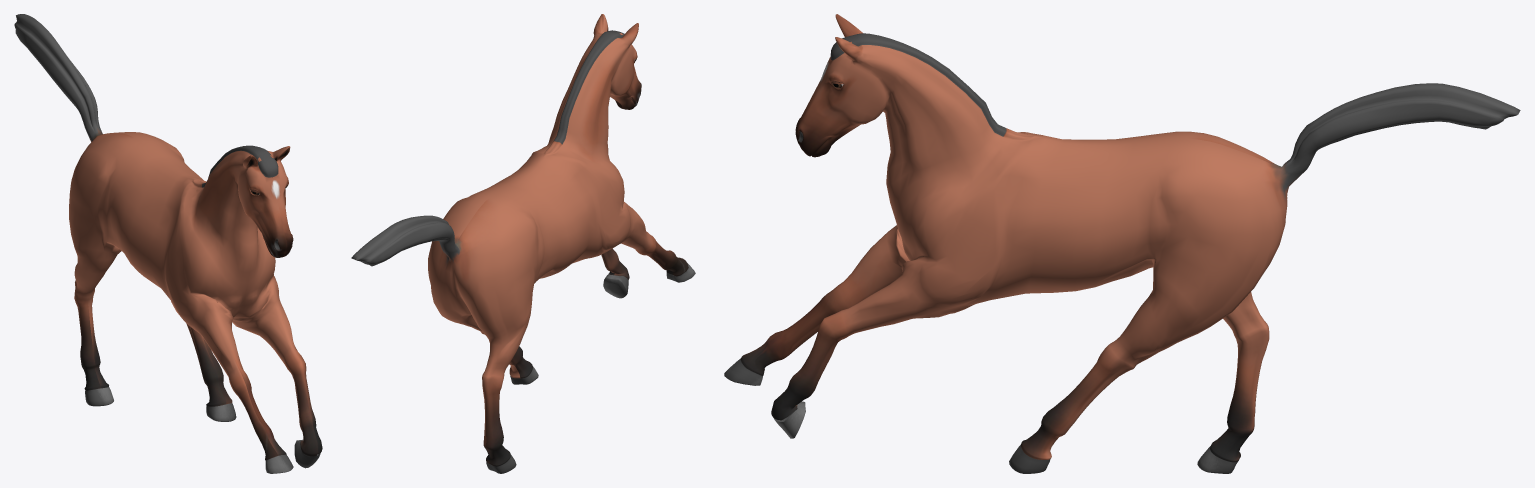
Rendered from horse_obj_9.obj.
3 views of the same model, side by side, from view 1: azimuth 30°, elevation 25°; view 2: azimuth 150°, elevation 25°; view 3: azimuth 270°, elevation 25° (orthographic). The views are drawn at different scales.
Parts seen in each view (by area): view 1: Figure_1; view 2: Figure_1; view 3: Figure_1.
Boxes of the visible parts, box(x1,y1,x2,y2) form: Figure_1: box(14, 14, 322, 473); Figure_1: box(351, 14, 695, 473); Figure_1: box(724, 14, 1520, 473).
Bounding box in the file's own units: 0.2421 × 0.8439 × 1.33.
7 materials, 7 textured.
